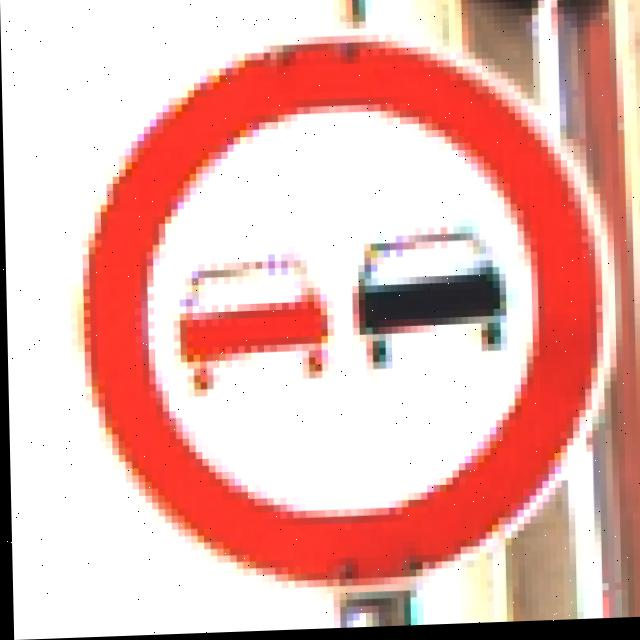no_overtaking: (69, 16, 613, 581)
